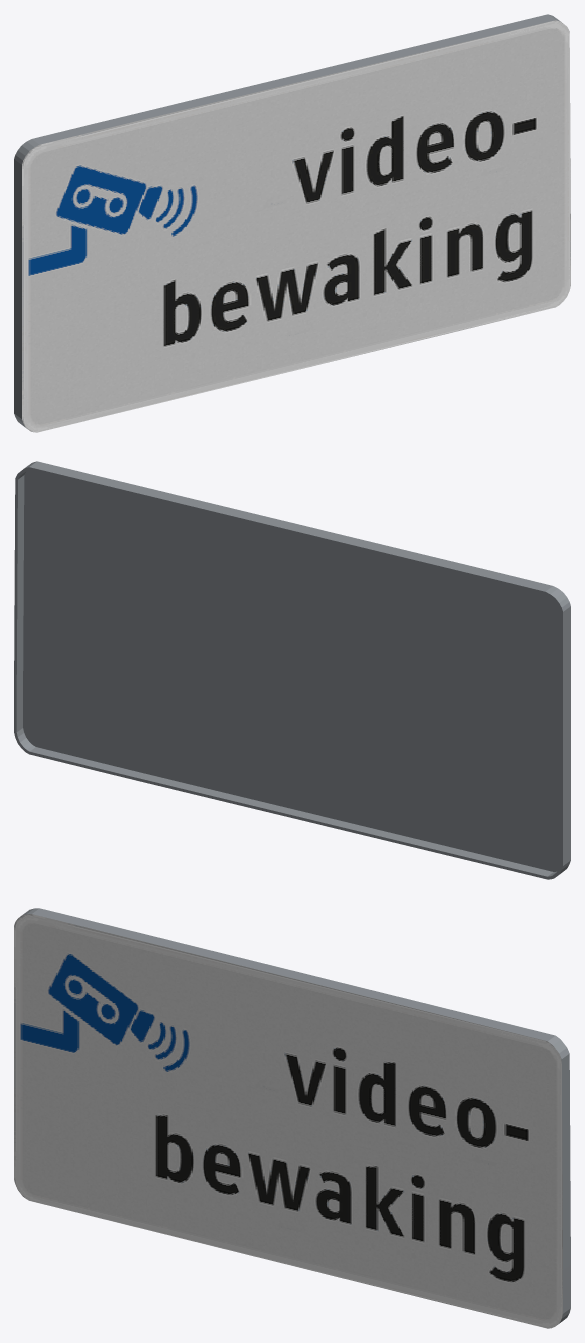
3 renders of one model, top to bottom at view 1: azimuth 30°, elevation 25°; view 2: azimuth 150°, elevation 25°; view 3: azimuth 330°, elevation 25°, orthographic.
Parts seen in each view (by area): view 1: cat_f06655fa33fb8231; view 2: cat_f06655fa33fb8231; view 3: cat_f06655fa33fb8231.
Boxes of the visible parts, left/top/right/bottom form: cat_f06655fa33fb8231: left=14, top=14, right=570, bottom=432; cat_f06655fa33fb8231: left=14, top=461, right=570, bottom=879; cat_f06655fa33fb8231: left=14, top=908, right=570, bottom=1328.
Bounding box in the file's own units: 0.6 × 0.015 × 0.3014.
2 materials, 1 textured.
